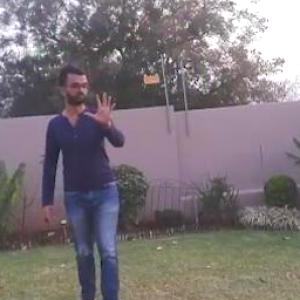follow_hand: (82, 88, 121, 126)
